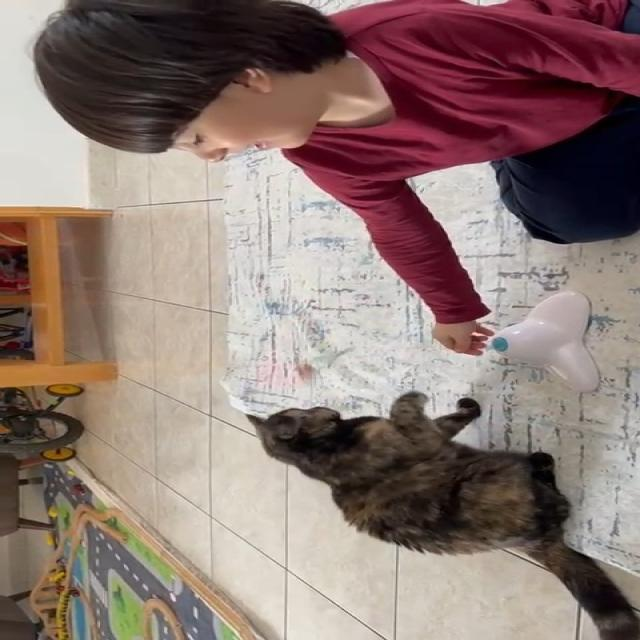authorized: (244, 390, 639, 639)
